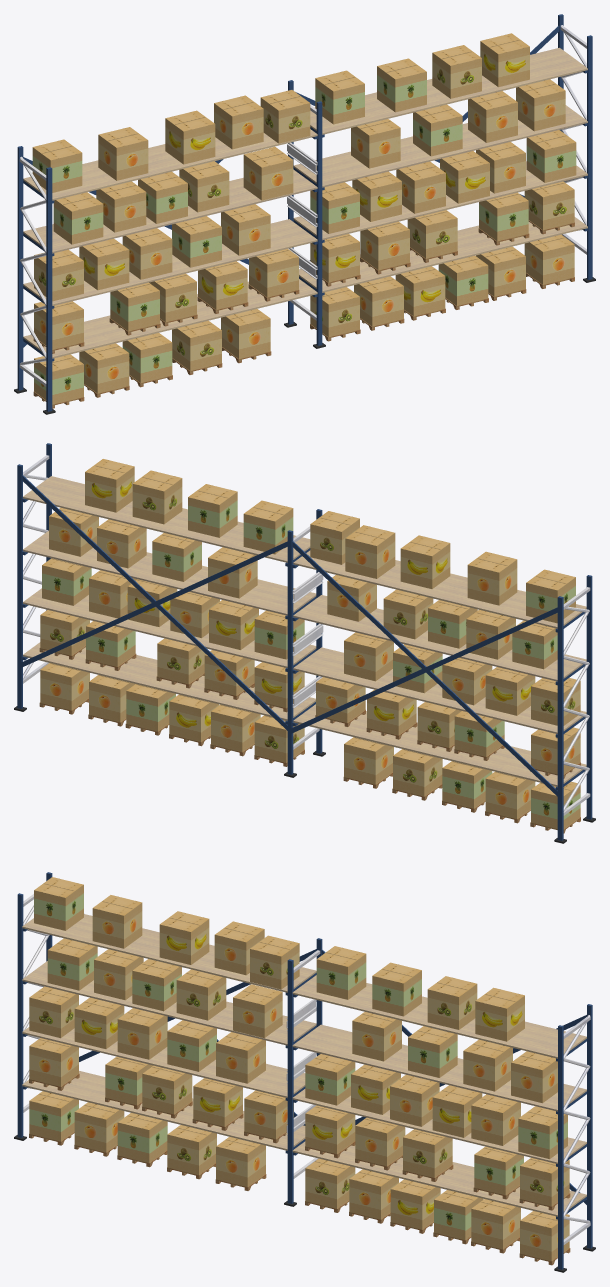
Rendered from BigShelves01Group2.FBX.
3 renders of one model, top to bottom at view 1: azimuth 30°, elevation 25°; view 2: azimuth 150°, elevation 25°; view 3: azimuth 330°, elevation 25°, orthographic.
Visible parts, largest first — view 1: Cardboard_box010, Cardboard_box09, BigShelves01, BigShelvesWoodBox; view 2: Cardboard_box010, BigShelves01, Cardboard_box09, BigShelvesWoodBox; view 3: Cardboard_box010, Cardboard_box09, BigShelves01, BigShelvesWoodBox.
Part boxes in pixels (x1,y1,x2,y2): Cardboard_box010: (34, 45, 574, 393); Cardboard_box09: (32, 33, 576, 404); BigShelves01: (14, 14, 595, 414); BigShelvesWoodBox: (33, 220, 574, 408); Cardboard_box010: (40, 470, 580, 818); BigShelves01: (14, 443, 595, 843); Cardboard_box09: (42, 459, 580, 828); BigShelvesWoodBox: (39, 645, 580, 833); Cardboard_box010: (29, 895, 569, 1261); Cardboard_box09: (29, 877, 567, 1240); BigShelves01: (14, 872, 595, 1272); BigShelvesWoodBox: (29, 1073, 570, 1265).
Size of the model in its own units: 699 by 299 by 71.51.
